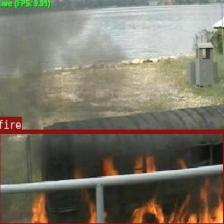fire: (0, 129, 224, 224)
